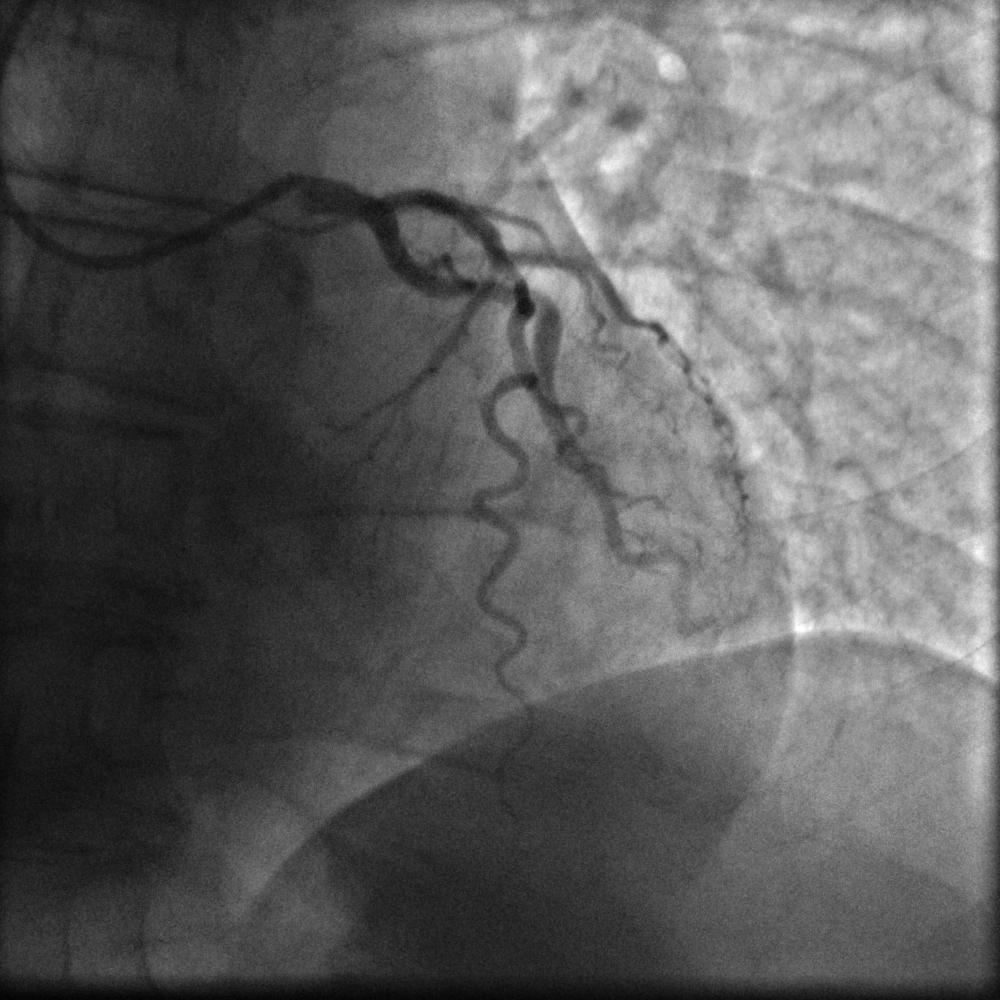Stenosis: (502, 281, 564, 320)
